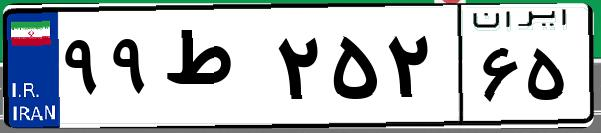2: (270, 28, 330, 110), (385, 28, 445, 110)
5: (330, 28, 385, 110), (525, 38, 570, 115)
6: (475, 38, 525, 113)
9: (57, 26, 110, 100), (110, 28, 158, 98)
ط: (158, 20, 270, 120)
